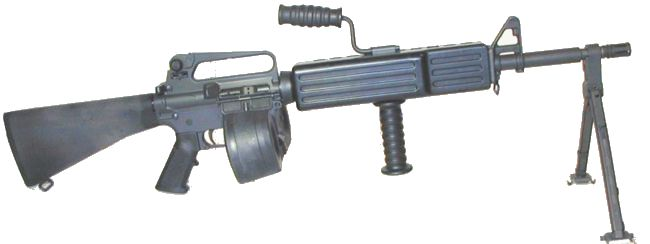rifle: (4, 9, 640, 201)
